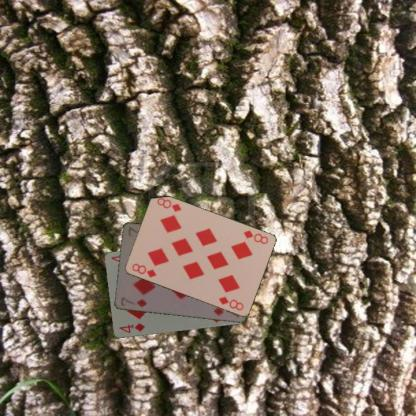4d: (116, 320, 146, 335)
7d: (118, 294, 148, 309)
8d: (240, 228, 270, 246), (129, 261, 157, 279)
